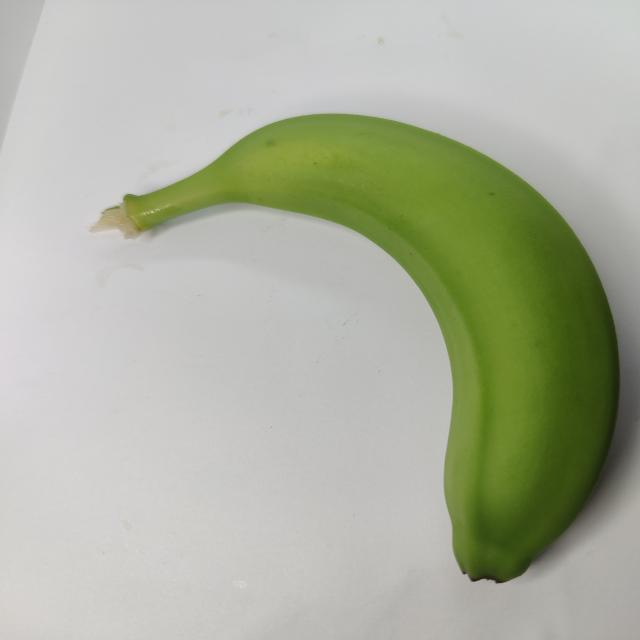raw: (106, 89, 640, 598)
